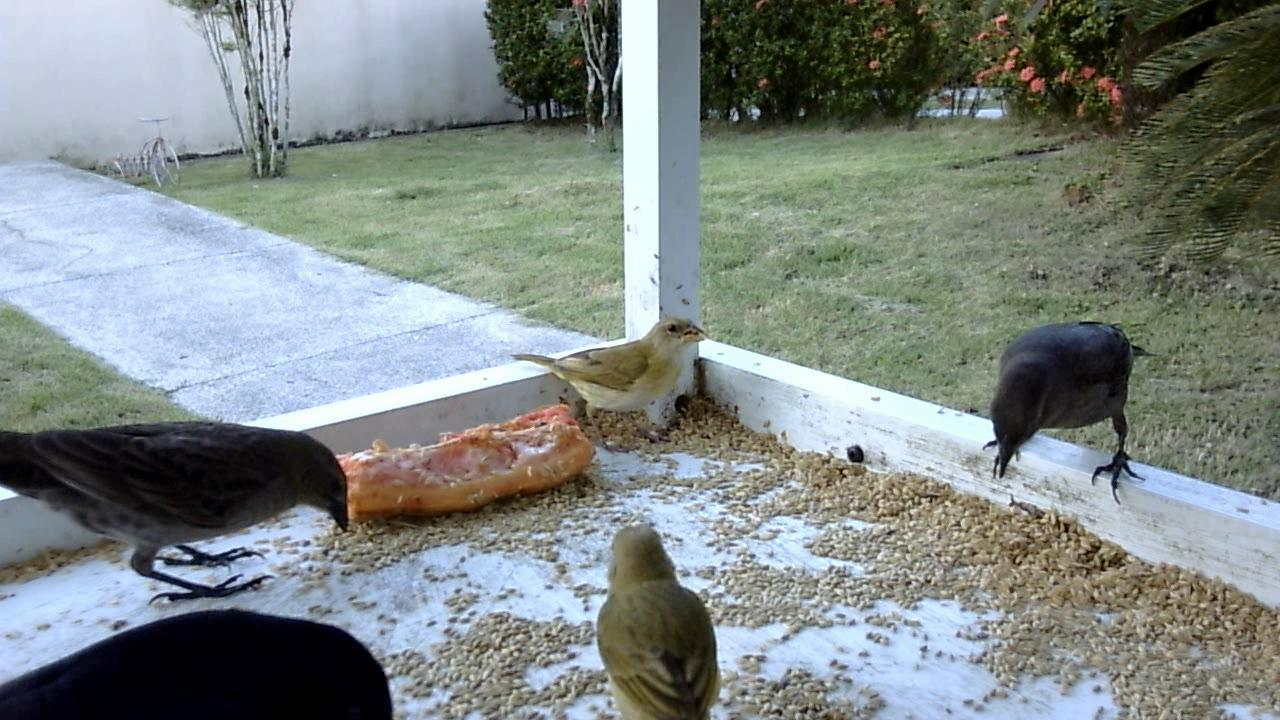canario_do_amazonas: (586, 519, 728, 720), (510, 313, 707, 447)
chupim: (1, 409, 353, 612), (1, 612, 394, 720), (975, 318, 1152, 513)
